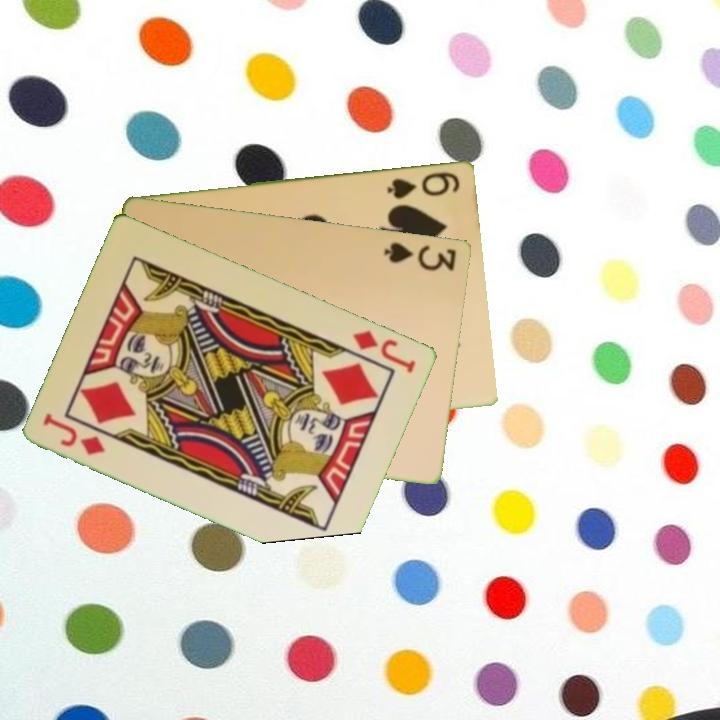3s: (381, 238, 460, 274)
6s: (384, 168, 463, 202)
Jd: (349, 326, 419, 376), (40, 409, 109, 458)
